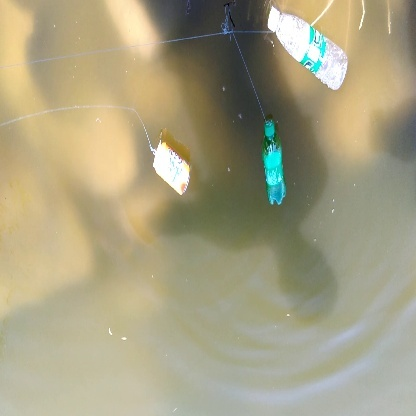bottle: (260, 105, 293, 207), (146, 137, 194, 196)
